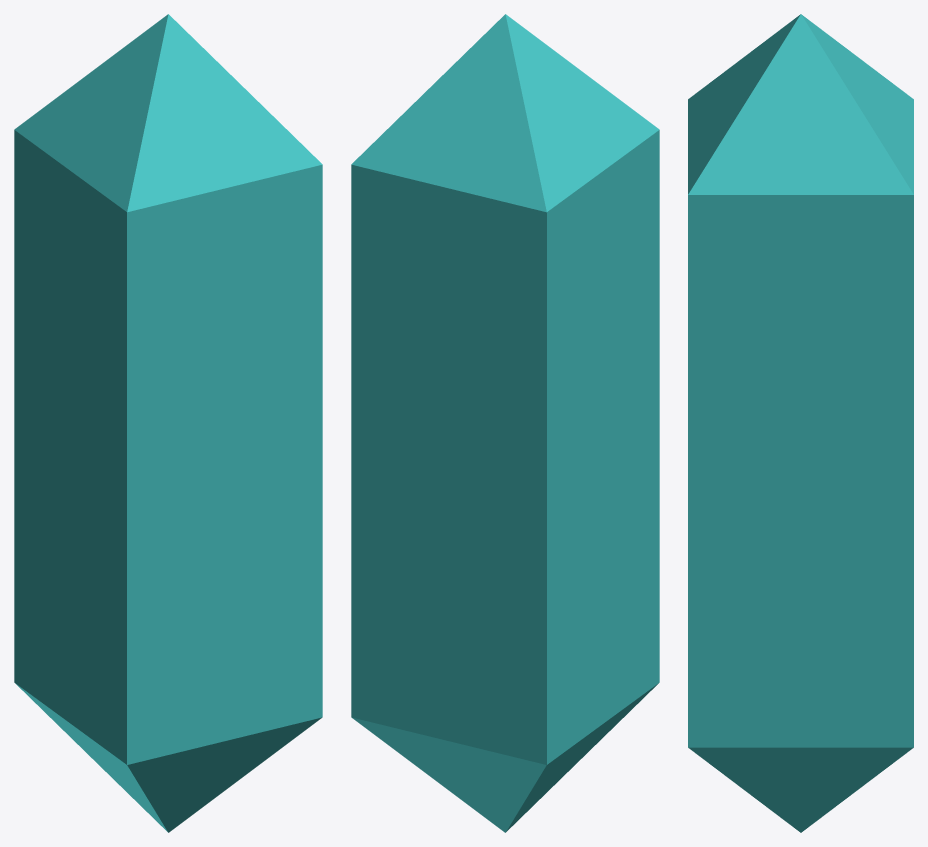
The model's file is crystal_knowledge.obj.
The picture shows the model from 3 angles, left to right: view 1: azimuth 30°, elevation 25°; view 2: azimuth 150°, elevation 25°; view 3: azimuth 270°, elevation 25°; orthographic projection.
Parts seen in each view (by area): view 1: crystal_knowledge; view 2: crystal_knowledge; view 3: crystal_knowledge.
Part boxes in pixels (left/top/right/bottom): crystal_knowledge: left=14, top=14, right=322, bottom=832; crystal_knowledge: left=351, top=14, right=659, bottom=832; crystal_knowledge: left=688, top=14, right=913, bottom=832.
Size of the model in its own units: 0.25 by 1 by 0.25.
